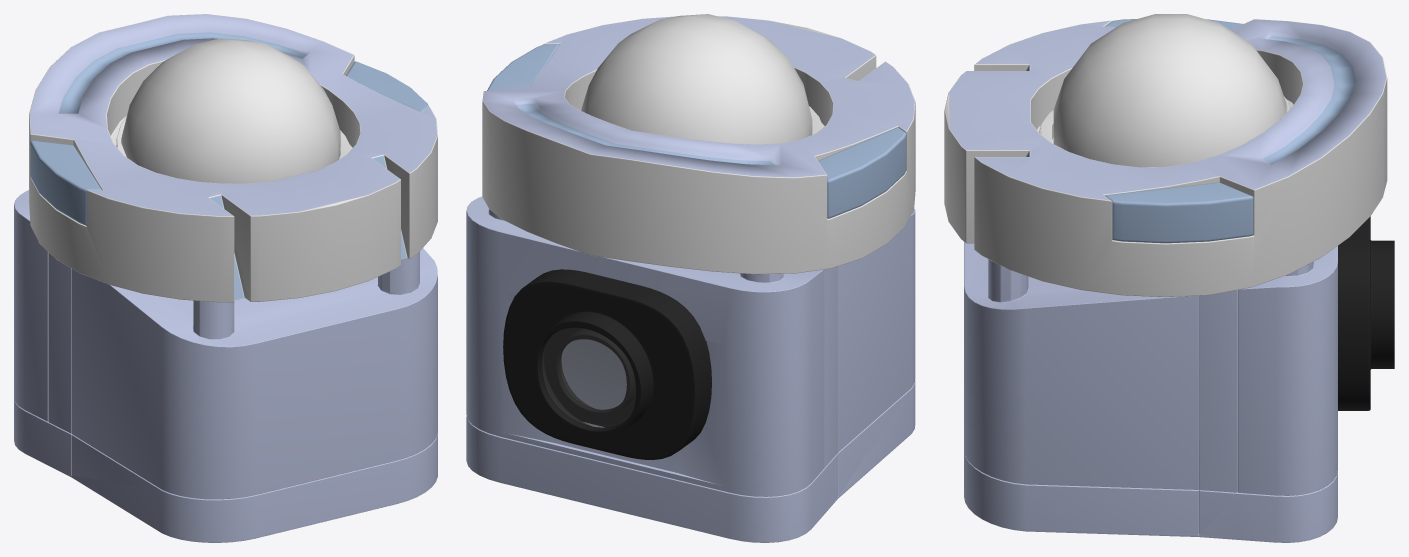
Rendered from minGen.glb.
3 views of the same model, side by side, from view 1: azimuth 30°, elevation 25°; view 2: azimuth 150°, elevation 25°; view 3: azimuth 270°, elevation 25° (orthographic). The views are drawn at different scales.
Parts seen in each view (by area): view 1: Camera.004; view 2: Camera.004; view 3: Camera.004.
Boxes of the visible parts, left/top/right/bottom form: Camera.004: left=14, top=14, right=437, bottom=542; Camera.004: left=466, top=14, right=915, bottom=542; Camera.004: left=944, top=14, right=1394, bottom=542.
Bounding box in the file's own units: 0.421 × 0.4543 × 0.4281.
